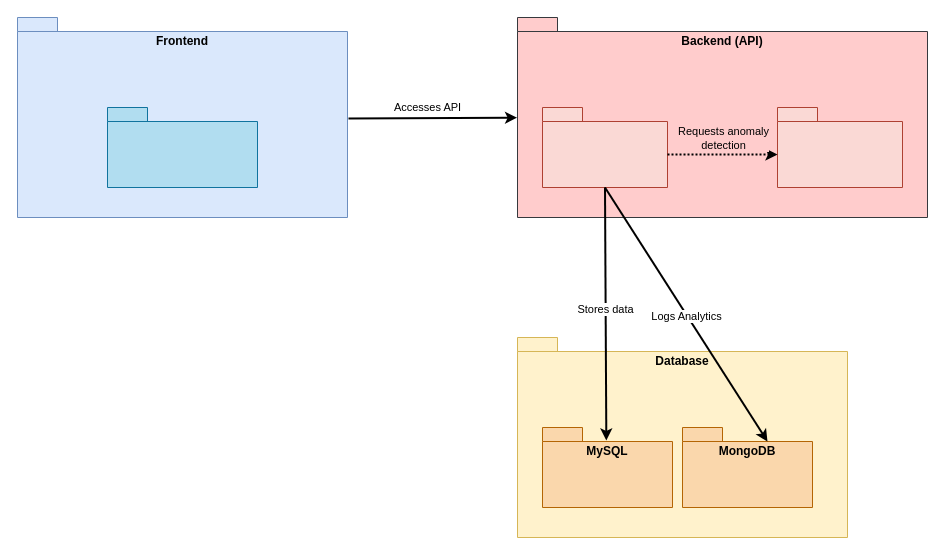
The diagram is 945 pixels wide and 555 high, and some of its shapes have lost their labels. The shapes that lost their labels are listed below. From the top down, each one's centre as x and y in pixels, then its label:
the point at 182,147: Admin Dashboard
the point at 605,147: Node.js API
the point at 839,147: FASTAPI
